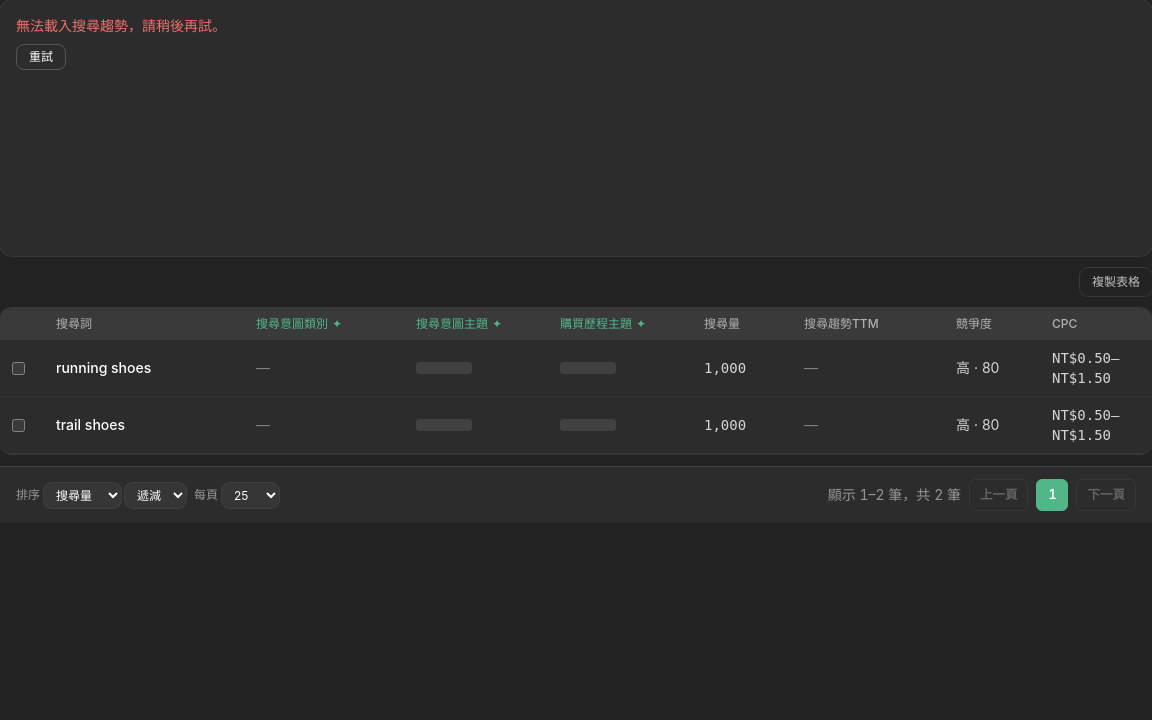
KeywordsView · TSV copy (FR-13) + per-row selection (FR-19) mount › checking a row with a URL context populates the selection store + shows the bulk bar
What coordinates should you click on to do the following:
click the checkbox named "選取 running shoes"
I would click on:
 (18, 368)
Its box is [12,362,25,374].
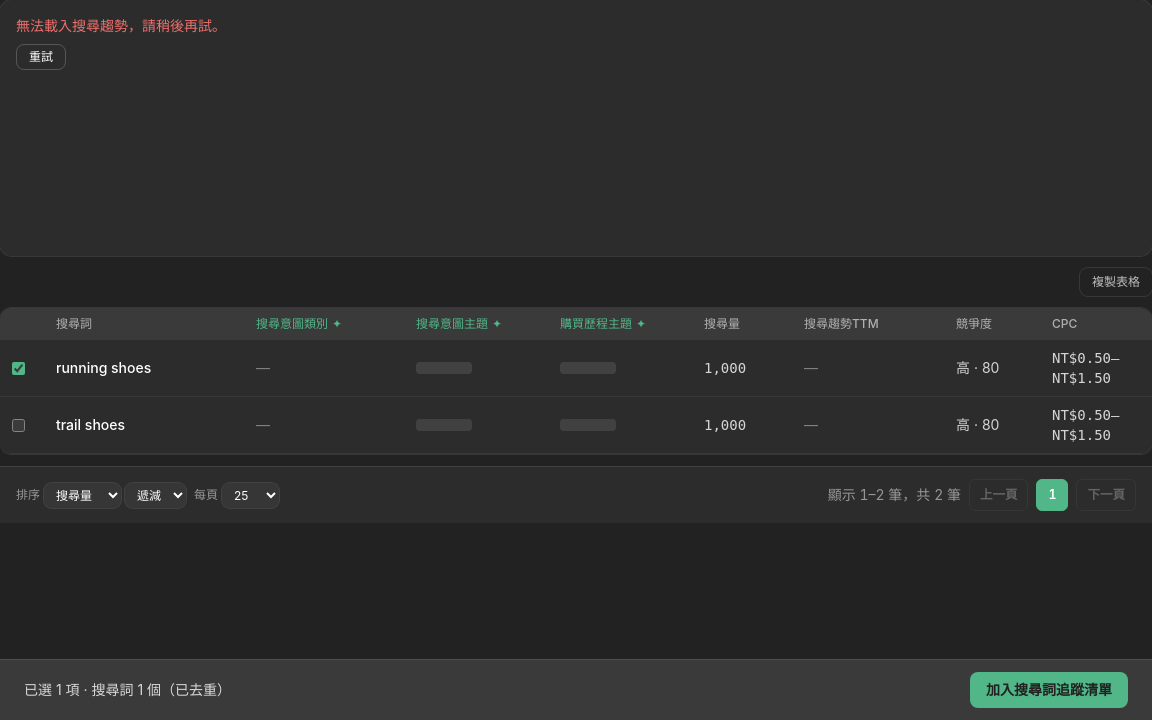
Check: the element named "批次選取" is shown, box [0,659,1151,719]
Check: the text "已選 1 項 · 搜尋詞 1 個（已去重）" is shown, box [24,680,231,700]
